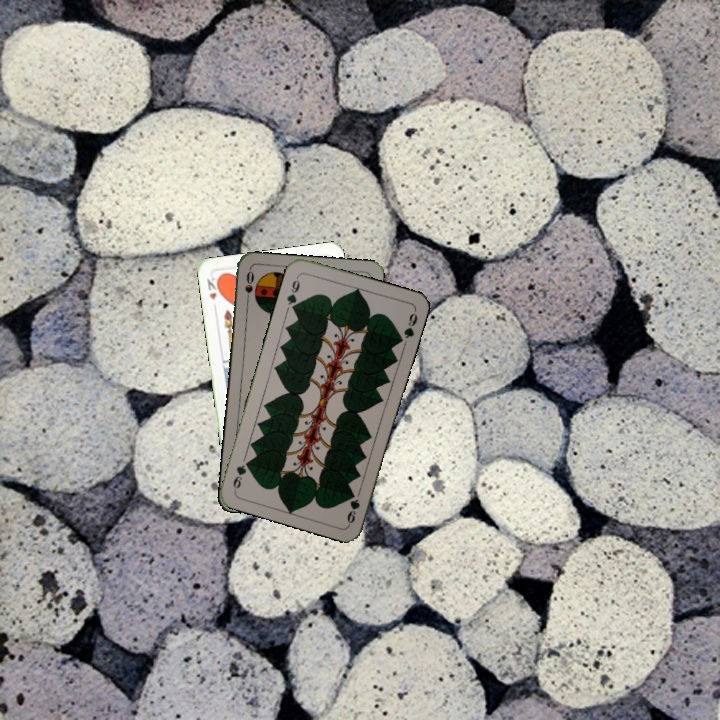G9: (343, 488, 363, 527), (283, 272, 302, 313)
HK: (203, 273, 223, 303)
SO: (241, 267, 257, 307)
